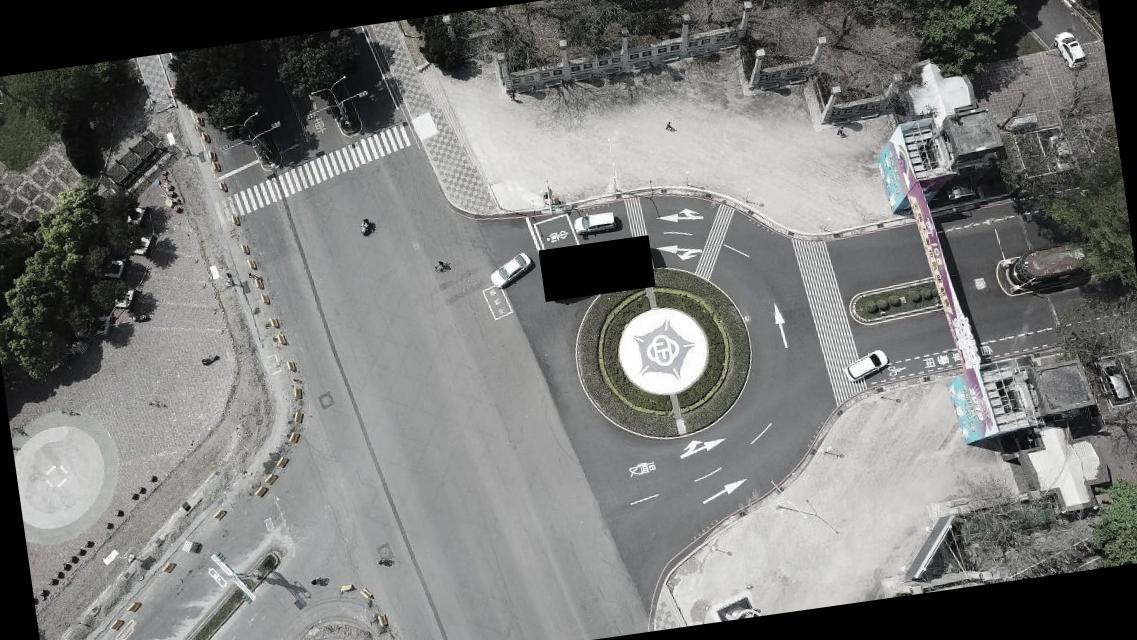vehicle: (1094, 354, 1134, 409), (485, 250, 534, 292), (839, 348, 891, 383), (1053, 28, 1089, 72), (571, 208, 617, 236), (1046, 132, 1075, 174)
